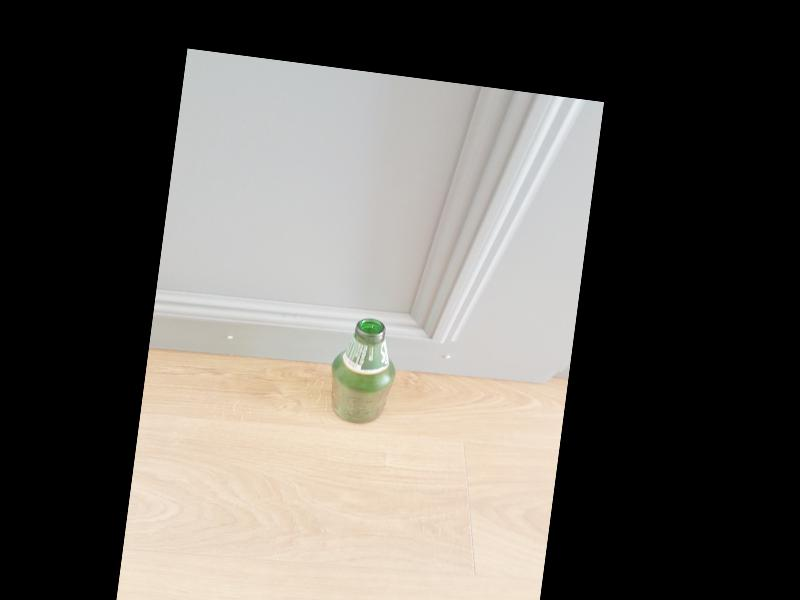Beer: (324, 314, 401, 427)
